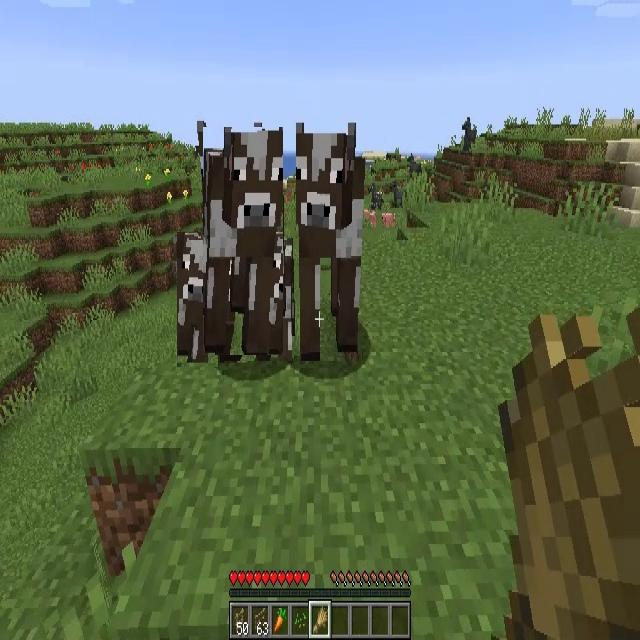cow: (203, 127, 283, 356), (297, 125, 365, 356), (177, 232, 218, 367)
flower: (166, 190, 173, 206), (183, 189, 189, 201), (146, 173, 151, 187)
pig: (363, 210, 378, 226), (382, 212, 394, 228)
